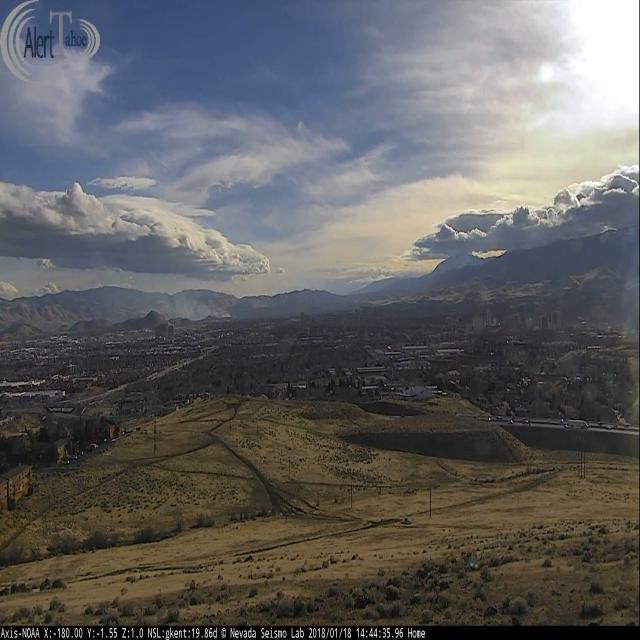smoke: (171, 296, 232, 319)
